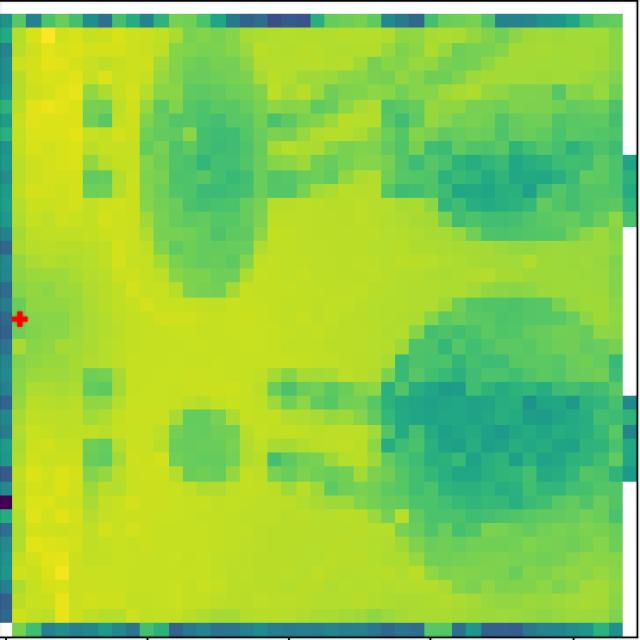Concrete: (165, 405, 246, 491)
Glass: (408, 312, 601, 516)
Metal: (146, 57, 264, 299)
Wood: (386, 83, 613, 236)
